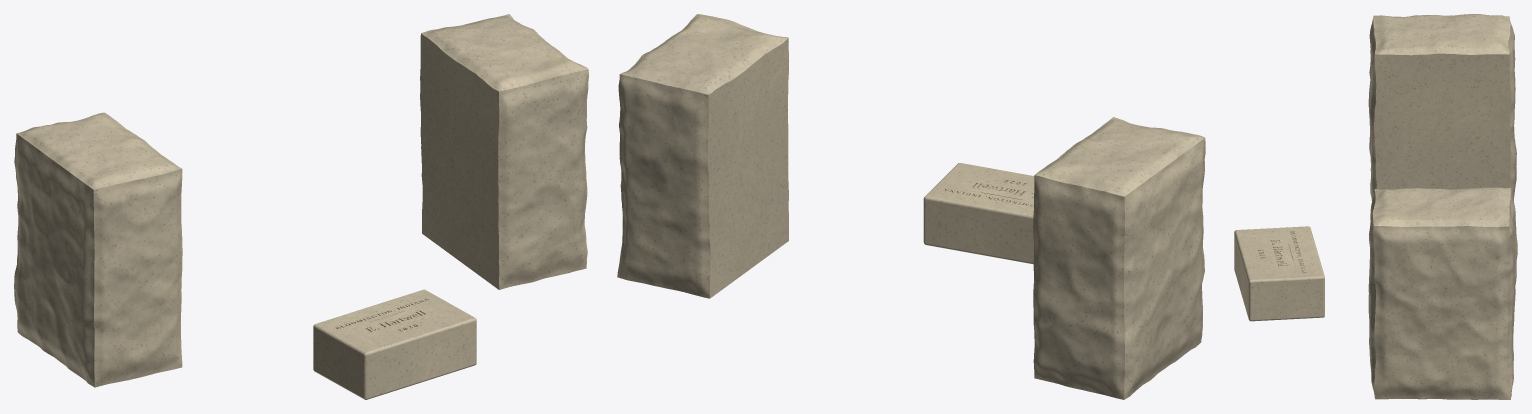
File: limestone_engraved_block_and_bookends.glb
The picture shows the model from 3 angles, left to right: view 1: azimuth 30°, elevation 25°; view 2: azimuth 150°, elevation 25°; view 3: azimuth 270°, elevation 25°; orthographic projection. The views are drawn at different scales.
Parts seen in each view (by area): view 1: Bookend_Right, Bookend_Left, Engraved_Block; view 2: Bookend_Left, Bookend_Right, Engraved_Block; view 3: Bookend_Right, Bookend_Left, Engraved_Block.
Boxes of the visible parts, box(x1,y1,x2,y2) form: Bookend_Right: box(420, 14, 588, 289); Bookend_Left: box(14, 112, 182, 387); Engraved_Block: box(313, 289, 476, 399); Bookend_Left: box(1033, 117, 1205, 399); Bookend_Right: box(617, 14, 788, 298); Engraved_Block: box(923, 163, 1034, 264); Bookend_Right: box(1368, 187, 1517, 399); Bookend_Left: box(1368, 14, 1516, 201); Engraved_Block: box(1234, 226, 1324, 321).
Bounding box in the file's own units: 0.4242 × 0.1646 × 0.2355.
Materials: 4 (4 with a texture image).
